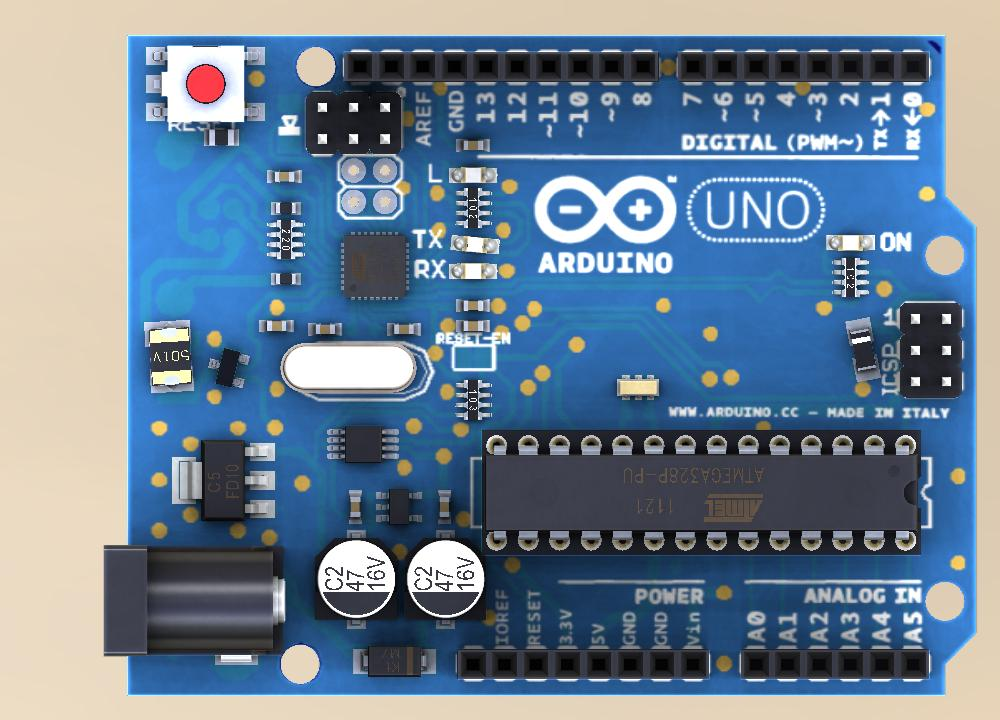16MHz Crystal: (616, 372, 661, 403)
47uF CAP: (314, 533, 399, 630), (403, 533, 485, 631)
ATMEL328P: (478, 426, 924, 560)
ATMega16u2: (339, 229, 412, 302)
CD1206: (844, 314, 885, 385)
Capa: (345, 490, 367, 524), (435, 489, 454, 527), (265, 169, 306, 186), (257, 318, 296, 334), (305, 322, 344, 337), (456, 319, 491, 335), (457, 298, 491, 314), (387, 321, 423, 336), (457, 140, 491, 153)
Crystal: (282, 340, 435, 404)
Fuse: (141, 321, 201, 407)
LED: (448, 232, 502, 259), (447, 164, 500, 187), (826, 234, 877, 255), (450, 262, 498, 281)
LMV358: (375, 487, 424, 528)
M7 diode: (351, 645, 440, 680)
Missing: (81, 160, 266, 312), (273, 93, 305, 158)
PIN Header: (900, 301, 965, 401), (309, 91, 402, 156)
Ports: (341, 46, 657, 88), (679, 44, 931, 86), (454, 644, 712, 685), (740, 644, 934, 687)
Power: (103, 543, 284, 661)
Regulator: (143, 427, 283, 541)
Reset: (141, 39, 269, 127)
Resistor: (200, 126, 241, 150), (271, 200, 304, 218), (272, 271, 303, 287)
Resistor pack: (267, 220, 308, 263), (455, 377, 494, 422), (453, 189, 495, 229), (832, 257, 871, 299)
SSOT3: (204, 347, 251, 390)
lp2985: (327, 427, 400, 461)
